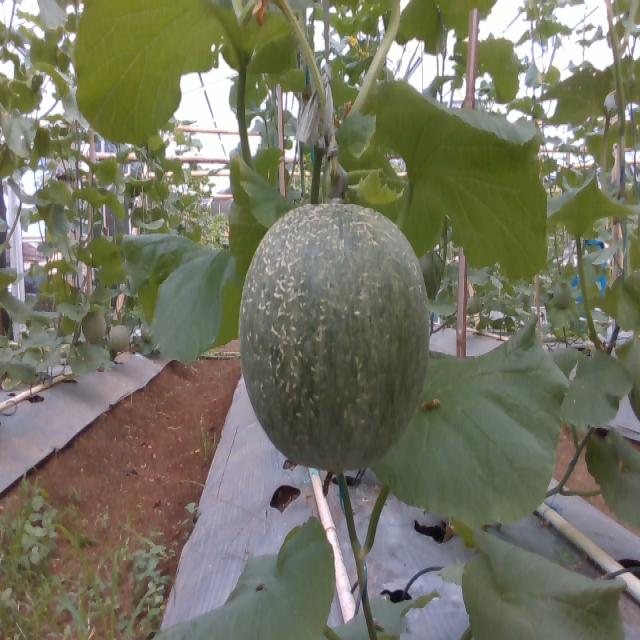melon: (239, 204, 429, 473)
